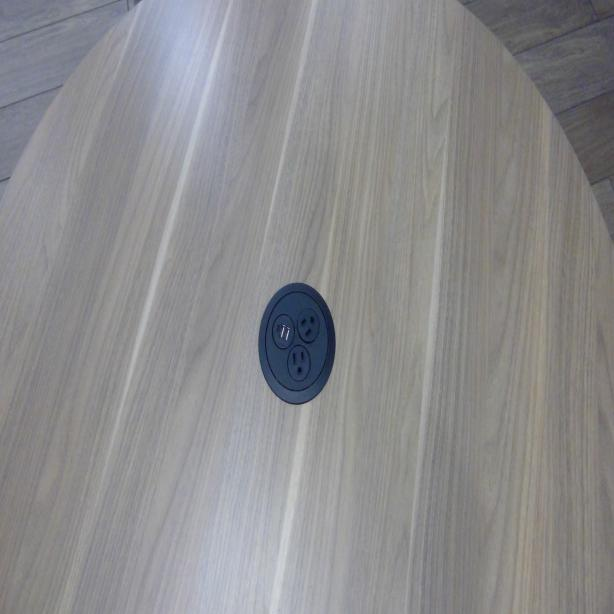typeb: (298, 307, 320, 339), (288, 346, 309, 378)
